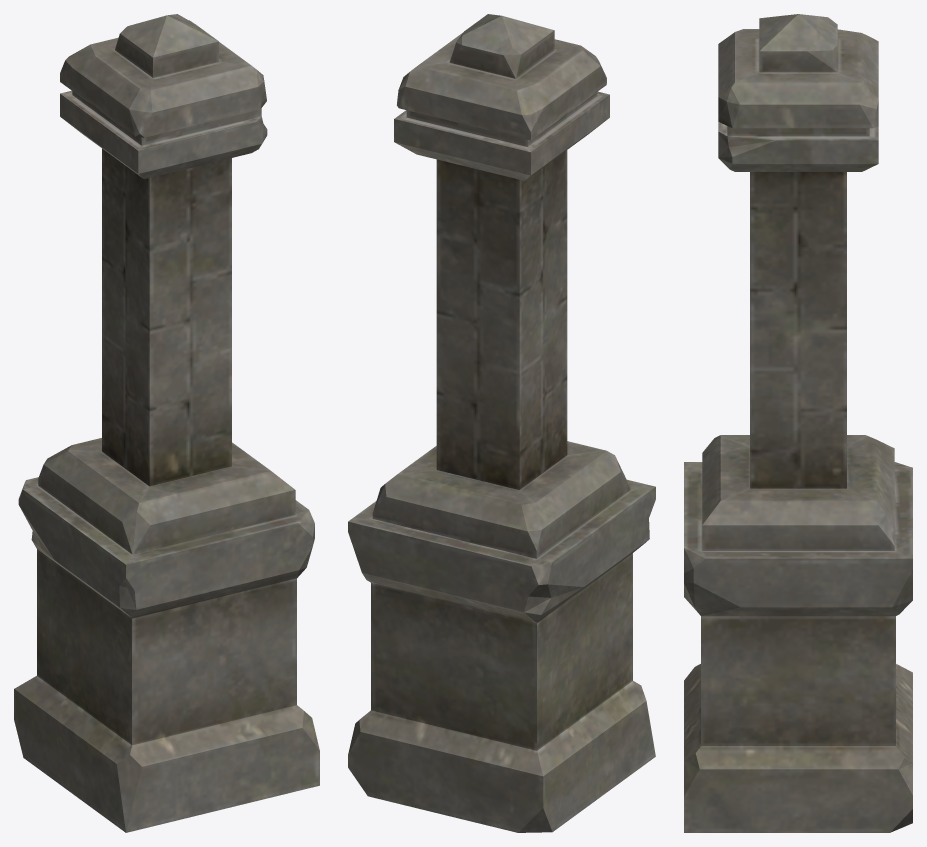
Rendered from Railing_pillar02.fbx.
The picture shows the model from 3 angles, left to right: view 1: azimuth 30°, elevation 25°; view 2: azimuth 150°, elevation 25°; view 3: azimuth 270°, elevation 25°; orthographic projection. The views are drawn at different scales.
Parts seen in each view (by area): view 1: TO14_SM_MP_Railing_pillar02.mo; view 2: TO14_SM_MP_Railing_pillar02.mo; view 3: TO14_SM_MP_Railing_pillar02.mo.
Boxes of the visible parts, box(x1,y1,x2,y2) form: TO14_SM_MP_Railing_pillar02.mo: box(14, 14, 319, 832); TO14_SM_MP_Railing_pillar02.mo: box(348, 14, 655, 832); TO14_SM_MP_Railing_pillar02.mo: box(684, 14, 912, 832).
Bounding box in the file's own units: 44.83 × 166 × 44.83.
